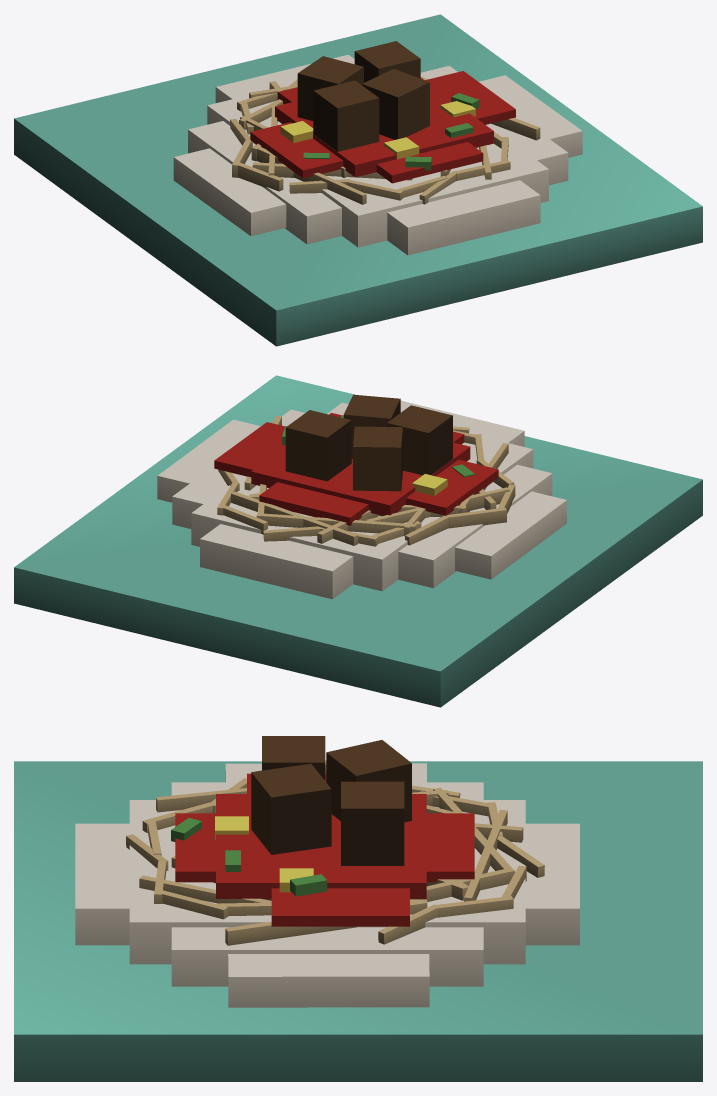
File: Food-003-Spaghetti.fbx
The picture shows the model from 3 angles, top to bottom: view 1: azimuth 30°, elevation 25°; view 2: azimuth 150°, elevation 25°; view 3: azimuth 270°, elevation 25°; orthographic projection. The views are drawn at different scales.
Parts seen in each view (by area): view 1: FOOD-Type03-Spaghetti; view 2: FOOD-Type03-Spaghetti; view 3: FOOD-Type03-Spaghetti.
Boxes of the visible parts, box(x1,y1,x2,y2) form: FOOD-Type03-Spaghetti: box(14, 14, 702, 346); FOOD-Type03-Spaghetti: box(14, 375, 702, 707); FOOD-Type03-Spaghetti: box(14, 736, 702, 1081).
Bounding box in the file's own units: 6.45 × 1.9 × 6.87.
